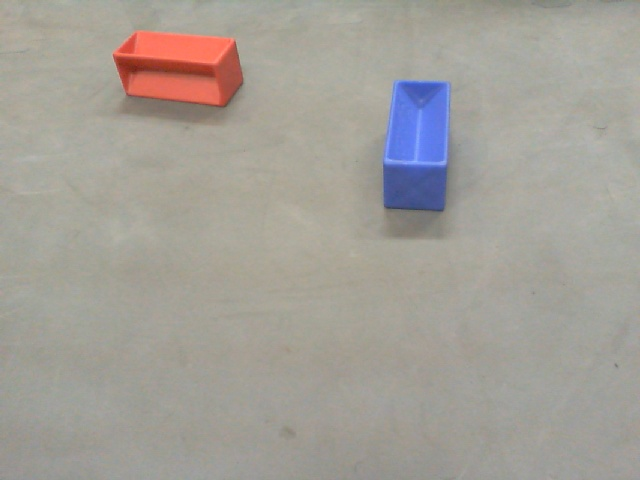BlueSample: (382, 80, 451, 215)
RedSample: (97, 28, 247, 109)
